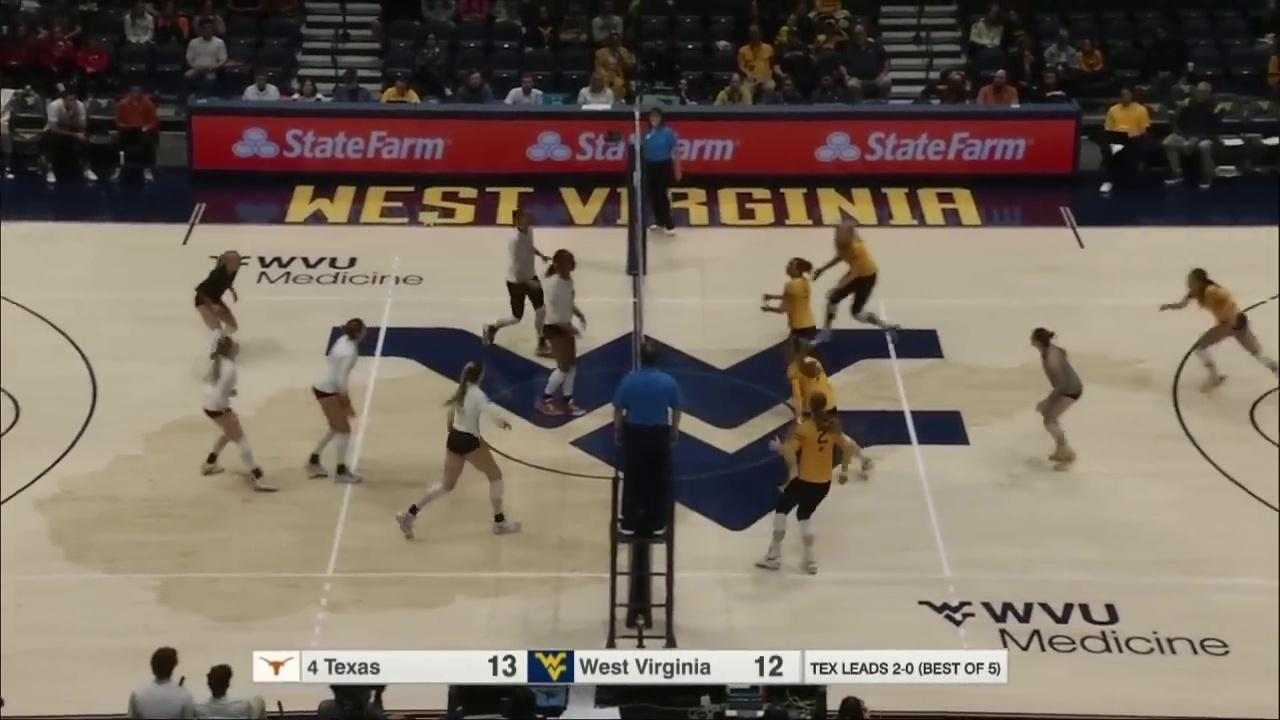player: (398, 361, 522, 539), (757, 393, 850, 574), (1157, 268, 1280, 392), (782, 338, 875, 479), (203, 339, 280, 492), (481, 209, 559, 355), (808, 222, 899, 347), (302, 318, 367, 483), (536, 250, 586, 414), (1030, 327, 1084, 467), (764, 259, 819, 395), (193, 250, 241, 362)
refree: (612, 339, 683, 535), (638, 111, 681, 234)
